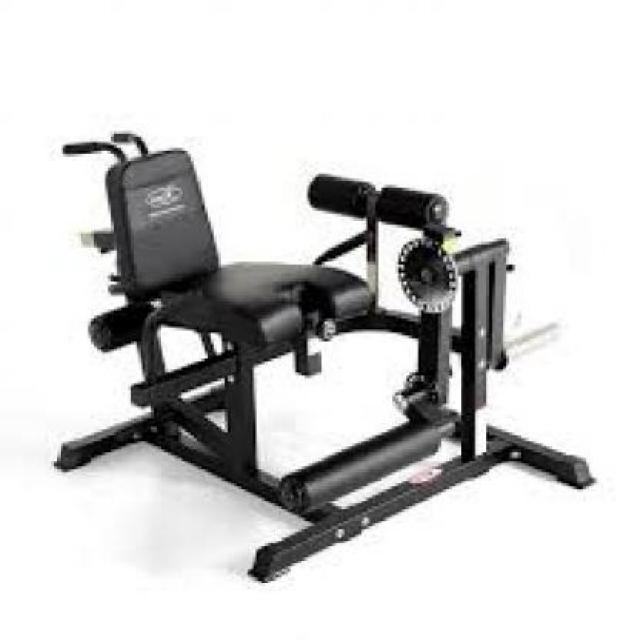leg extension: (35, 105, 608, 597)
